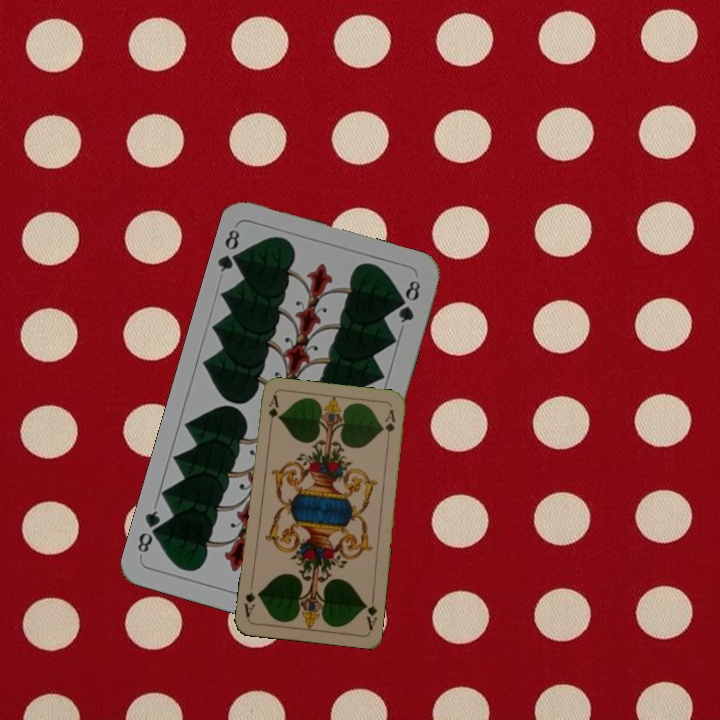G8: (214, 225, 247, 275)
GA: (360, 592, 380, 633), (264, 392, 281, 432)
